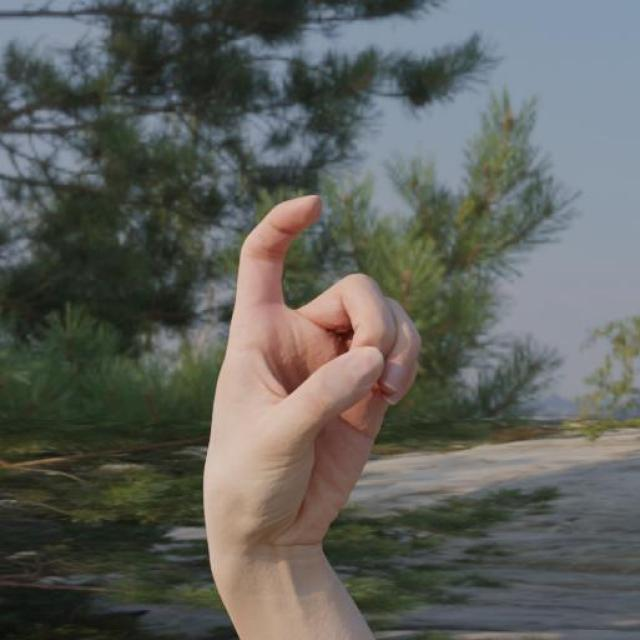X: (165, 176, 444, 633)
